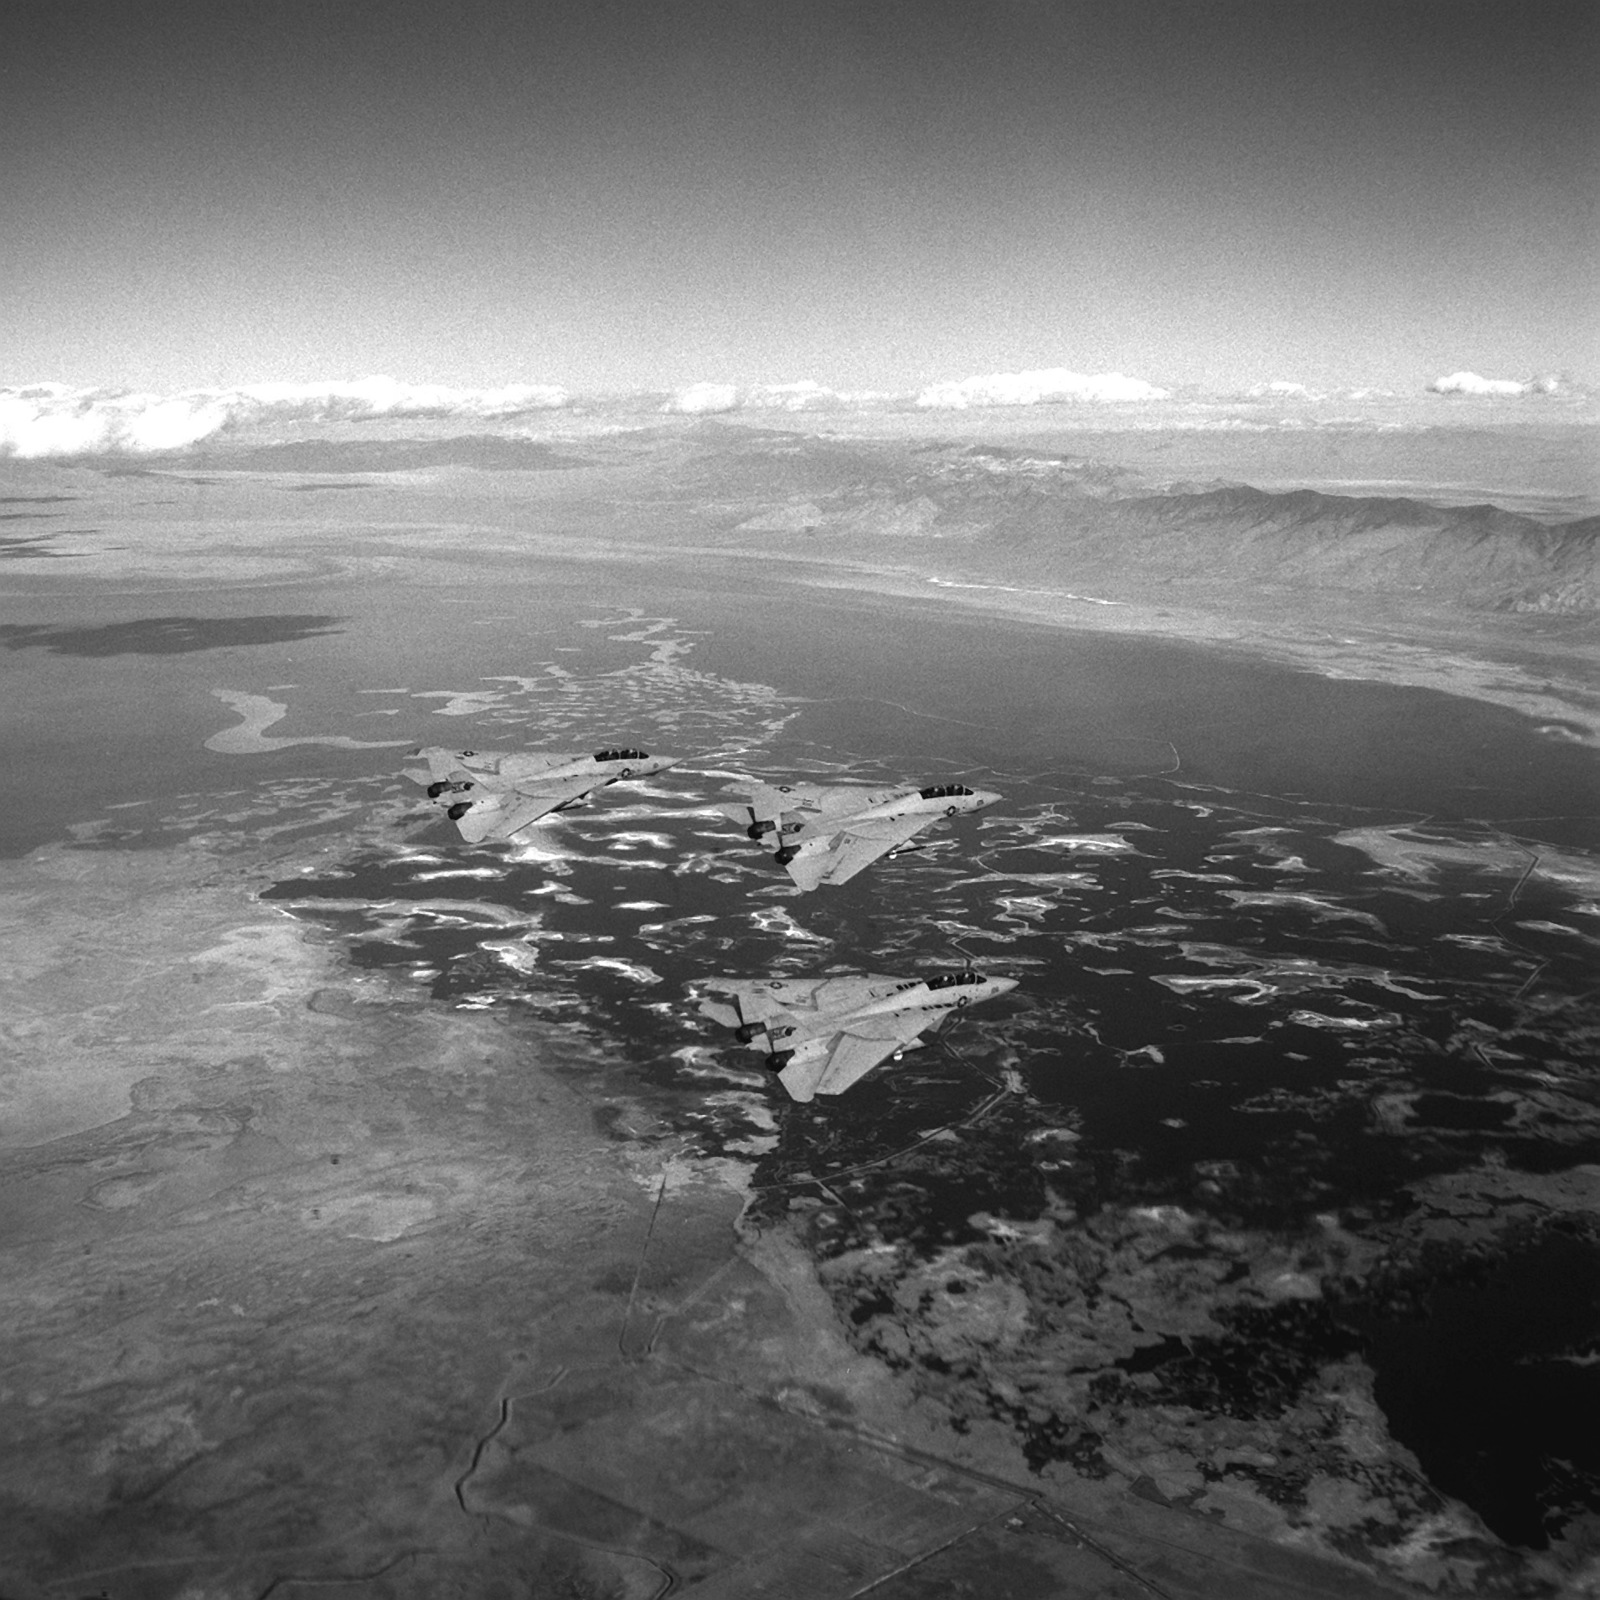F14: (697, 971, 1020, 1103), (712, 779, 1004, 892), (399, 744, 684, 844)
